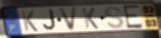E: (122, 4, 145, 31)
J: (42, 9, 58, 32)
K: (20, 10, 40, 33), (81, 7, 100, 30)
S: (104, 5, 125, 30)
V: (59, 6, 79, 32)
